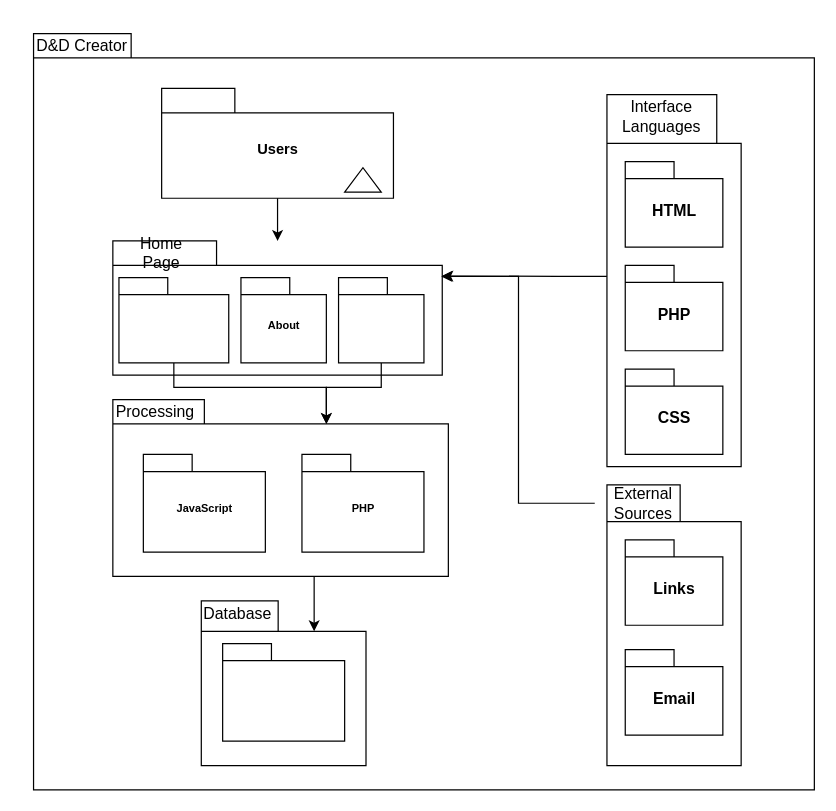
Some shapes in this 836 by 811 pixel diagram are drawn without their labels. Here are the shapes that lost their labels. From the top down, the centre of each, then its label:
At (x=173, y=319): "Character Creator".
At (x=380, y=319): "Account".
At (x=283, y=691): "SQL".
